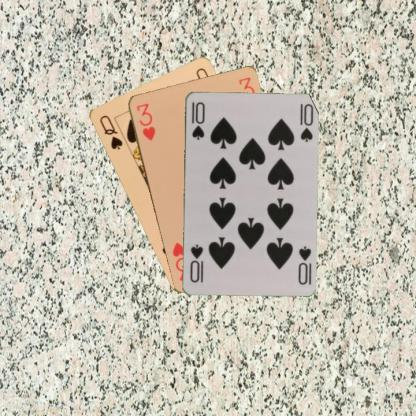10s: (189, 99, 206, 141), (295, 244, 312, 286)
3h: (134, 100, 156, 142)
Qs: (96, 112, 124, 151)
